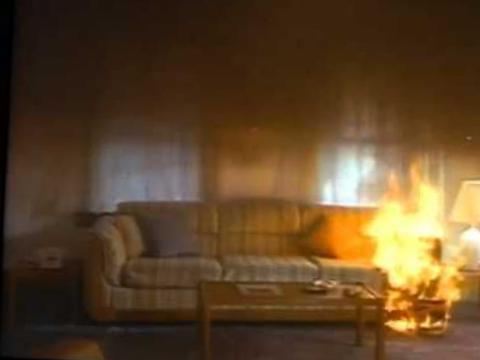fire: (356, 156, 471, 338)
